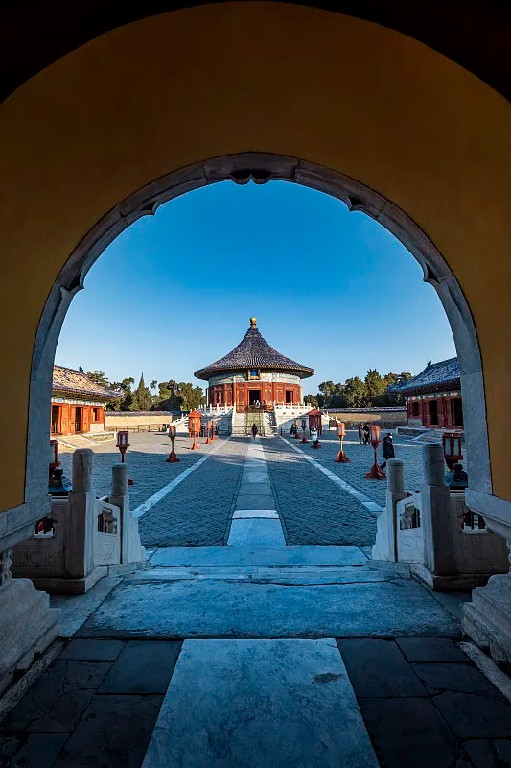Heaven: (193, 318, 313, 413)
